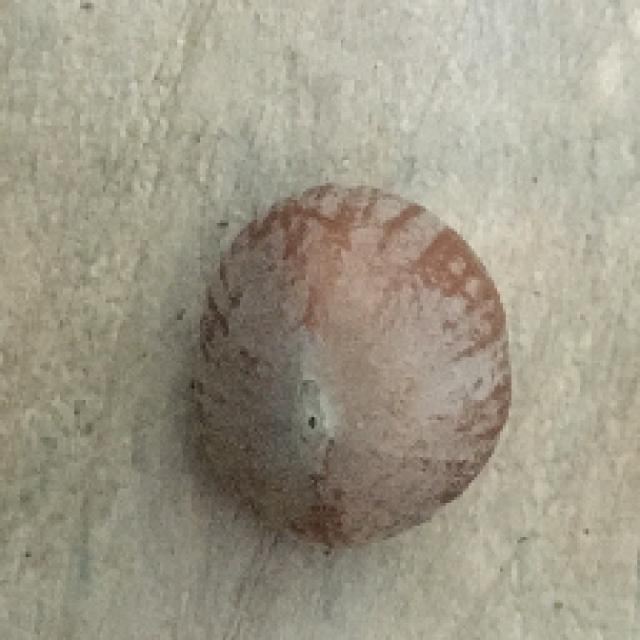QualityHazelnut: (184, 182, 518, 554)
